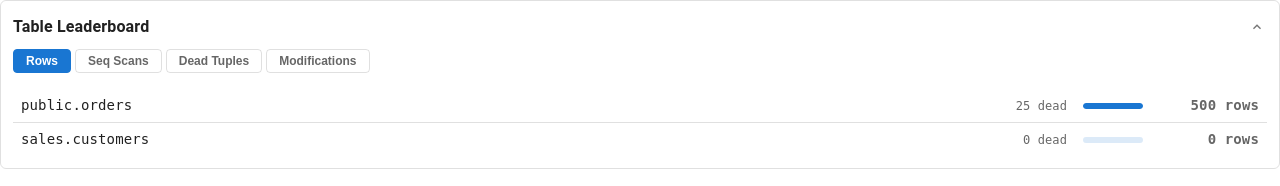
Test: TableLeaderboardSection › switches to the Dead Tuples tab
Expected: the text "500 rows" is shown, x1=1190 y1=97 x2=1259 y2=113
Click the tab with aria-label "Sort tables by Dead Tuples" at (214, 61), box x1=166 y1=49 x2=262 y2=73
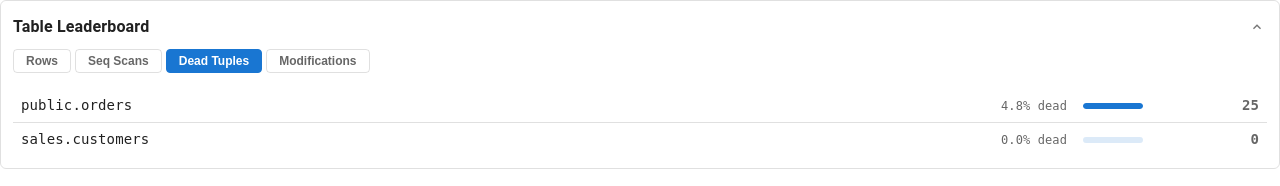
Result: the text "25" is shown at x1=1242 y1=97 x2=1259 y2=113
Result: the text "4.8% dead" is shown at x1=1001 y1=98 x2=1067 y2=112
